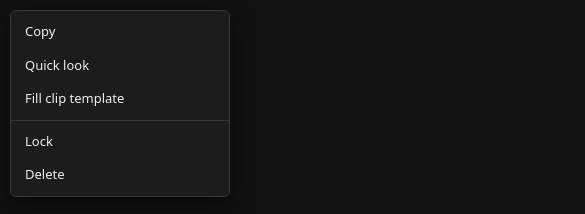
Test case: ClipContextMenu › the submenu lists positional templates with previews from rows 1 to 3, on every row
This screenshot has width=585, height=214.
Hover over the menu item with test id "menu-fill-clip-template" at (75, 98), box x1=25 y1=89 x2=124 y2=107
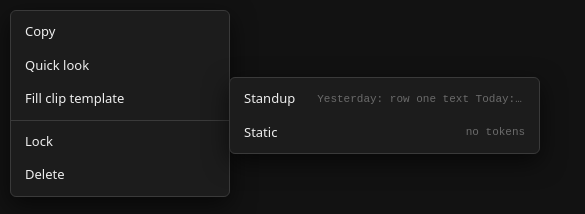
Expected: the menu with test id "clip-template-submenu" shows "Standup", x1=244 y1=89 x2=295 y2=107
Expected: the menu with test id "clip-template-submenu" shows "Yesterday: row one text Today: row two", x1=317 y1=92 x2=568 y2=104
Expected: the menu with test id "clip-template-submenu" shows "Static", x1=244 y1=122 x2=277 y2=140
Move the pointer off the menu item with test id "menu-fill-clip-template", box x1=11 y1=82 x2=229 y2=116
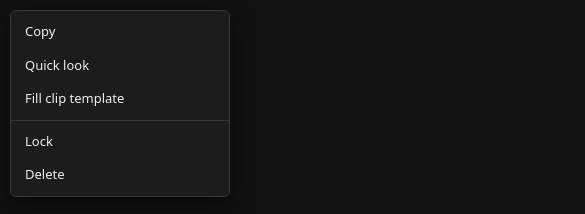
Expected: the menu with test id "clip-template-submenu" is gone
Click the menu item with test id "menu-fill-clip-template" at (75, 98), box x1=25 y1=89 x2=124 y2=107
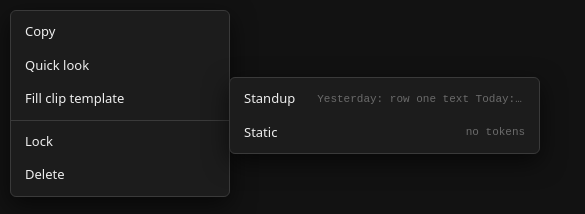
Expected: the menu with test id "clip-template-submenu" is shown, x1=229 y1=77 x2=540 y2=154
